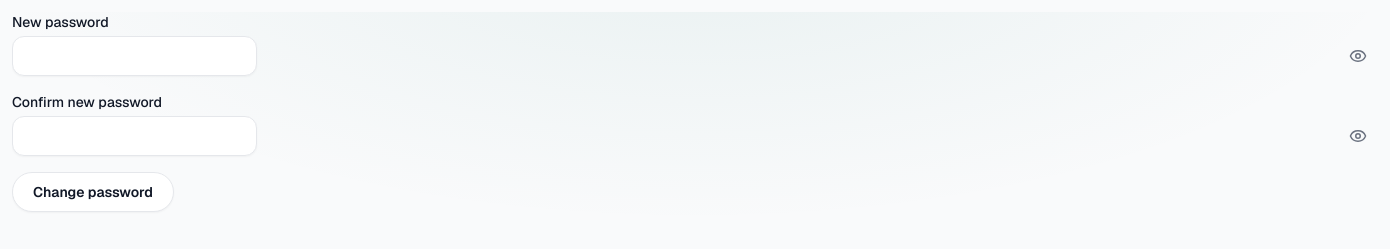
ChangePasswordForm › rejects mismatched passwords
This screenshot has width=1390, height=249.
Step 1. Type "correcthorse" into the password field labelled "New password" → (134, 56), box [12, 36, 257, 76]
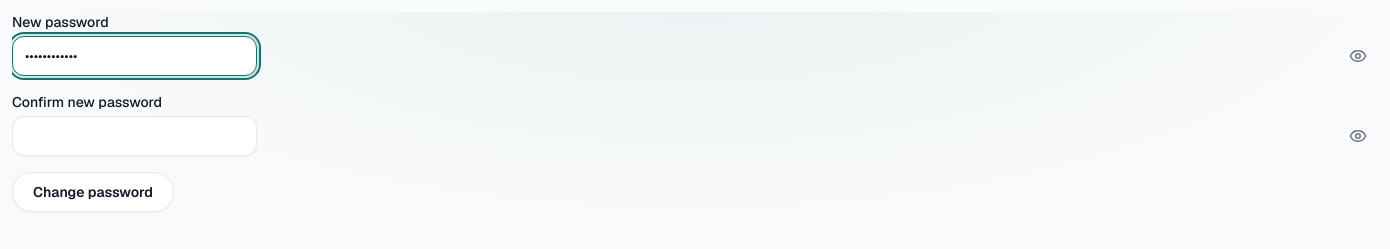
Step 2. Type "differenthorse" into the password field labelled "Confirm new password" → (134, 136), box [12, 116, 257, 156]
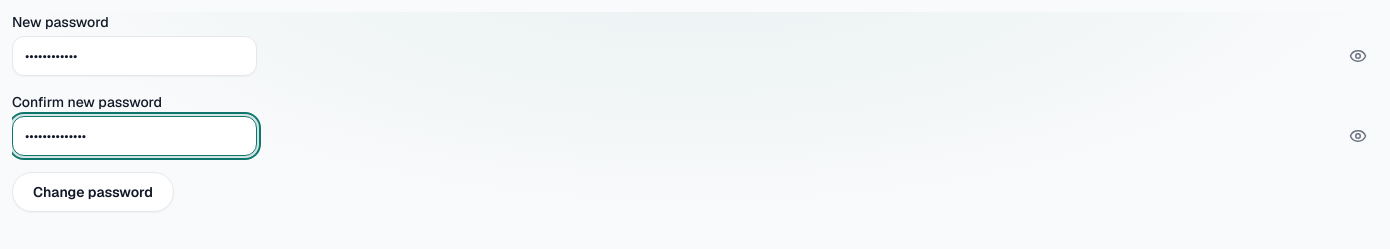
Step 3. Click the button "Change password" → click(93, 192), box [12, 172, 174, 212]
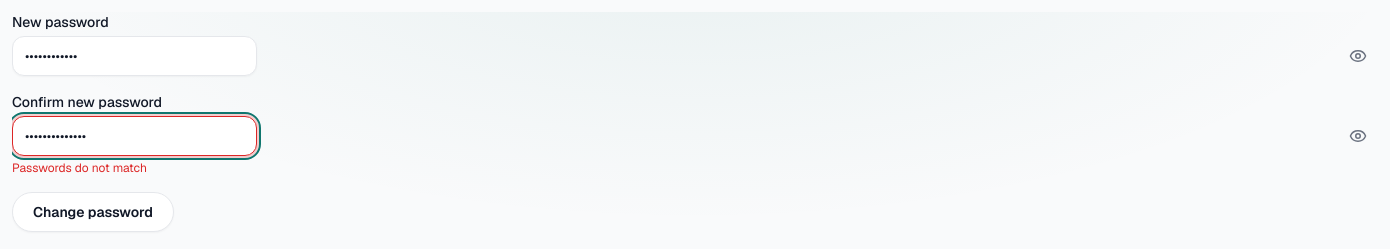
expect the text "Passwords do not match" is shown: met, box [12, 160, 147, 176]
